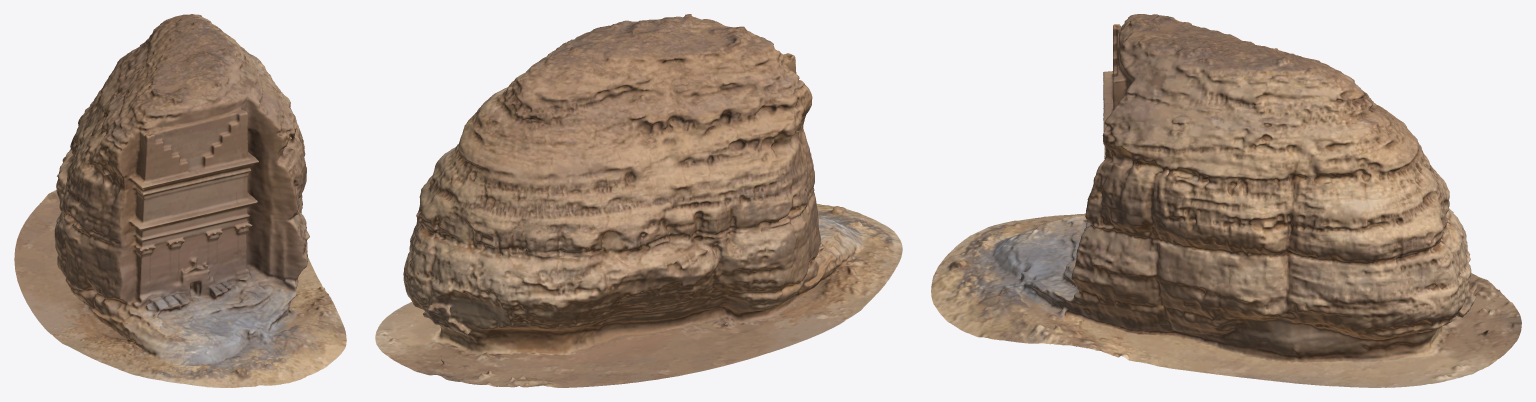
3 views of the same model, side by side, from view 1: azimuth 30°, elevation 25°; view 2: azimuth 150°, elevation 25°; view 3: azimuth 270°, elevation 25° (orthographic). The views are drawn at different scales.
Parts seen in each view (by area): view 1: SAU_001_M1_QasrAl-Farid_LP; view 2: SAU_001_M1_QasrAl-Farid_LP; view 3: SAU_001_M1_QasrAl-Farid_LP.
Part boxes in pixels (bbox=[...]): SAU_001_M1_QasrAl-Farid_LP: bbox=[14, 14, 346, 387]; SAU_001_M1_QasrAl-Farid_LP: bbox=[375, 14, 902, 387]; SAU_001_M1_QasrAl-Farid_LP: bbox=[931, 14, 1521, 387].
Size of the model in its own units: 42.07 by 30.7 by 60.17.
1 material, 1 textured.
